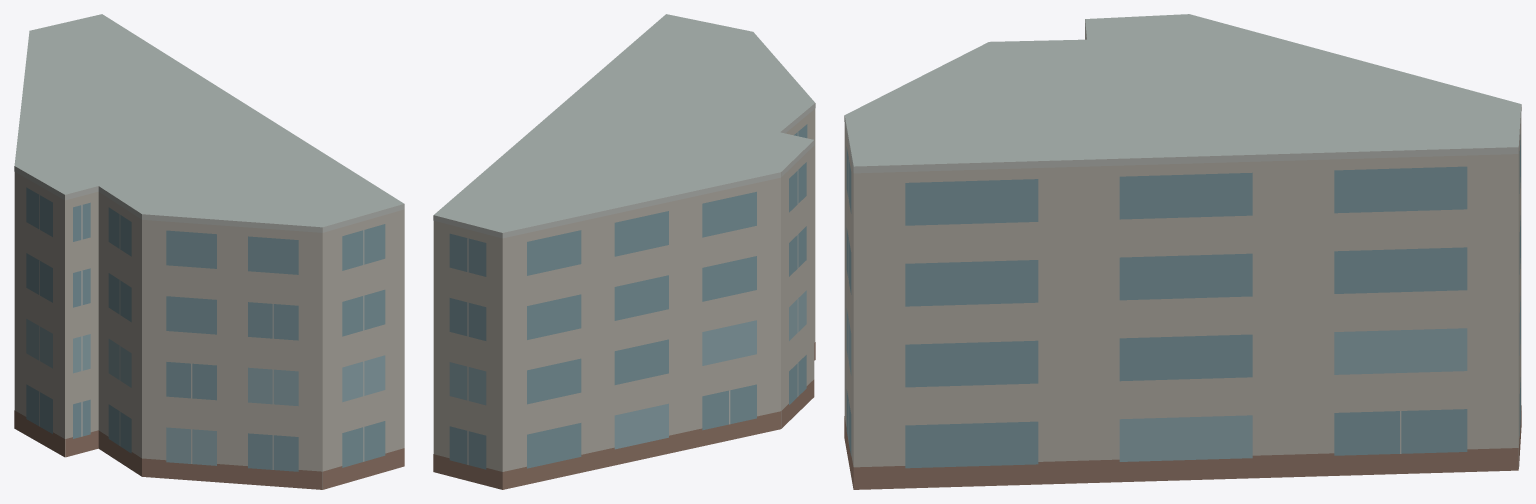
Rendered from survey-upis-32780100.glb.
3 renders of one model, left to right at view 1: azimuth 30°, elevation 25°; view 2: azimuth 150°, elevation 25°; view 3: azimuth 270°, elevation 25°, orthographic. The views are drawn at different scales.
Parts seen in each view (by area): view 1: survey-upis-32780100.tmp; view 2: survey-upis-32780100.tmp; view 3: survey-upis-32780100.tmp.
Part boxes in pixels (x1,y1,x2,y2): survey-upis-32780100.tmp: (14,14,404,489); survey-upis-32780100.tmp: (433,14,815,489); survey-upis-32780100.tmp: (844,14,1521,489).
Bounding box in the file's own units: 11.64 × 11.5 × 21.82.
